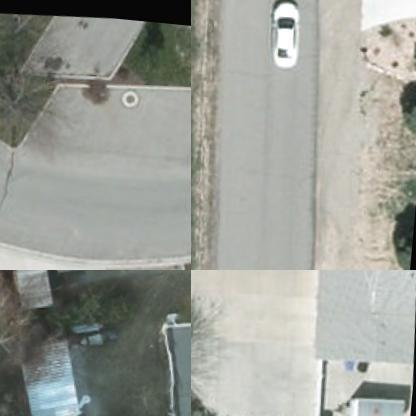car: (265, 0, 303, 63)
